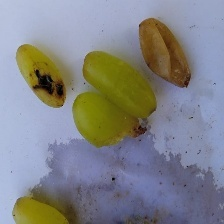grapes: (46, 11, 222, 176)
